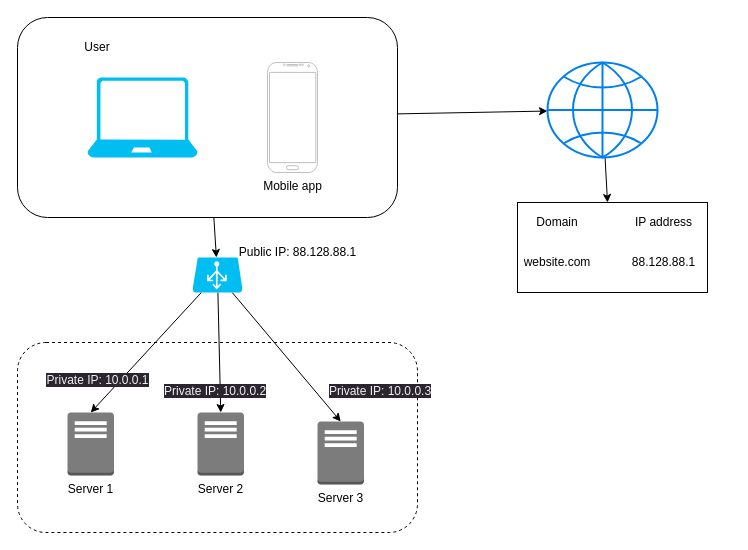
Some shapes in this 748 by 550 pixel diagram are drawn without their labels. Here are the shapes that lost their labels. From the top down, the centre of each, then its label:
At point (142, 117): "Web browser".
At point (217, 274): "Load balancer".
